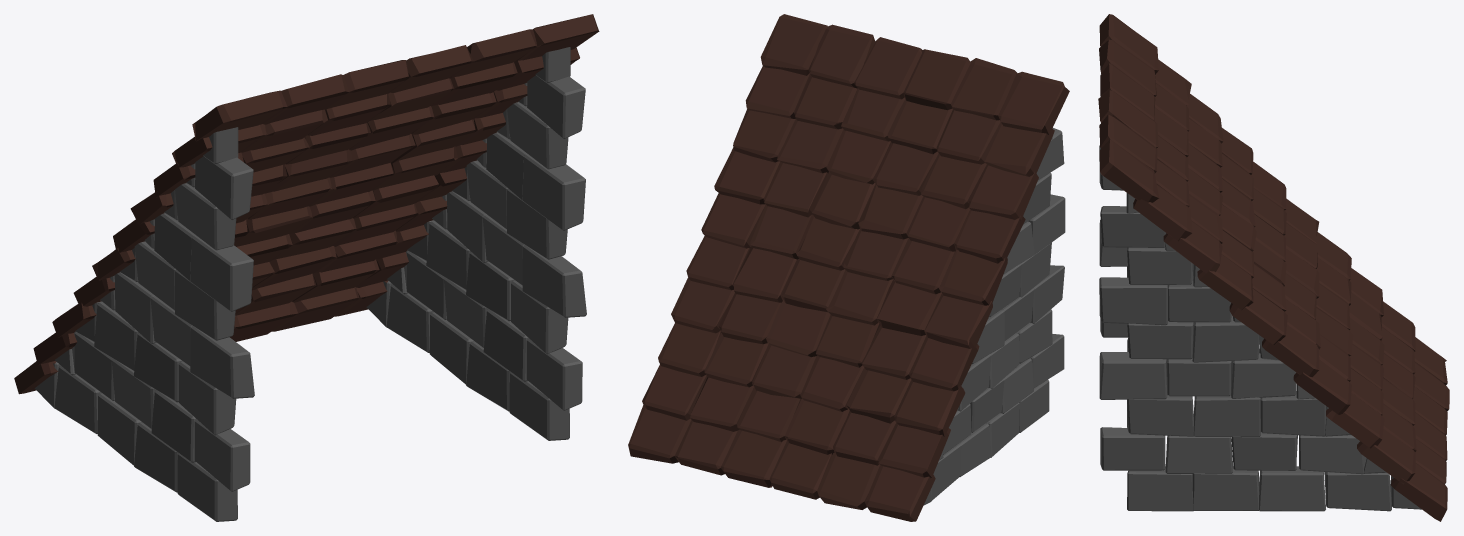
File: BrickWall-Stone-Roof-Both.fbx
The picture shows the model from 3 angles, left to right: view 1: azimuth 30°, elevation 25°; view 2: azimuth 150°, elevation 25°; view 3: azimuth 270°, elevation 25°; orthographic projection. The views are drawn at different scales.
Visible parts, largest first — view 1: Cube.001, Stone Base wall.003, Stone Base wall.002; view 2: Cube.001, Stone Base wall.003; view 3: Cube.001, Stone Base wall.002, Stone Base wall.003.
Part boxes in pixels (x1=…): Cube.001: x1=14, y1=14, x2=599, y2=394; Stone Base wall.003: x1=34, y1=127, x2=254, y2=521; Stone Base wall.002: x1=366, y1=47, x2=586, y2=440; Cube.001: x1=628, y1=14, x2=1069, y2=521; Stone Base wall.003: x1=923, y1=128, x2=1065, y2=505; Cube.001: x1=1098, y1=14, x2=1449, y2=521; Stone Base wall.002: x1=1099, y1=193, x2=1421, y2=511; Stone Base wall.003: x1=1099, y1=145, x2=1260, y2=353.
Size of the model in its own units: 883 by 973 by 857.
